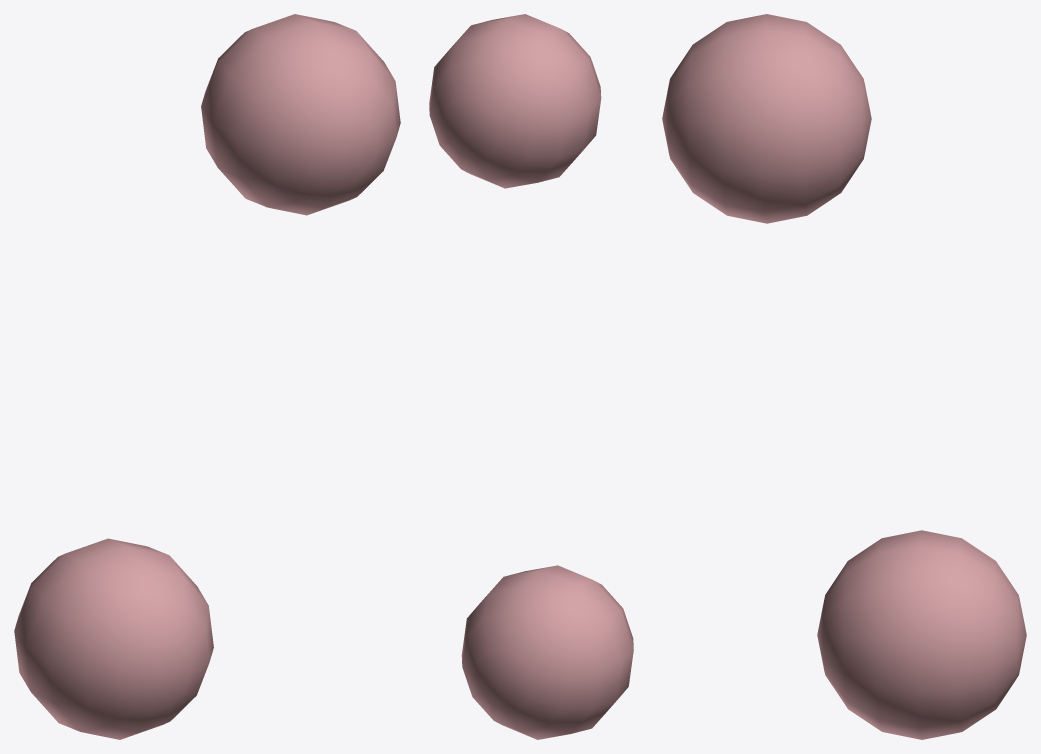
3 renders of one model, left to right at view 1: azimuth 30°, elevation 25°; view 2: azimuth 150°, elevation 25°; view 3: azimuth 270°, elevation 25°, orthographic. The views are drawn at different scales.
Parts seen in each view (by area): view 1: ZA_006f6a6d33be165a; view 2: ZA_006f6a6d33be165a; view 3: ZA_006f6a6d33be165a.
Part boxes in pixels (left/top/right/bottom): ZA_006f6a6d33be165a: left=14, top=14, right=400, bottom=739; ZA_006f6a6d33be165a: left=429, top=14, right=633, bottom=739; ZA_006f6a6d33be165a: left=662, top=14, right=1026, bottom=739.
Size of the model in its own units: 0.00424 by 0.0104 by 0.00452.
